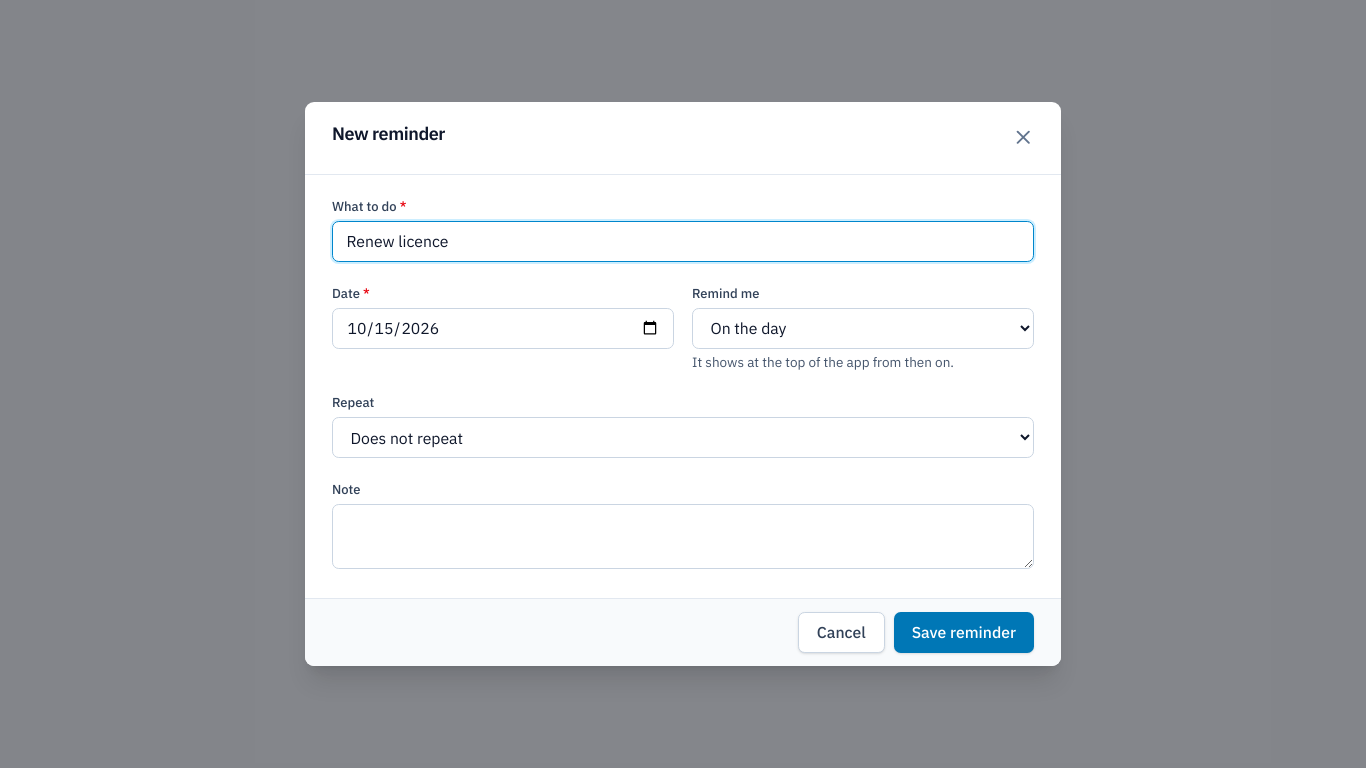
Scenario: a new reminder › refuses 366 days before
Step 1. Select "Custom…" in the dropdown labelled "Remind me" → (863, 328), box [692, 308, 1034, 348]
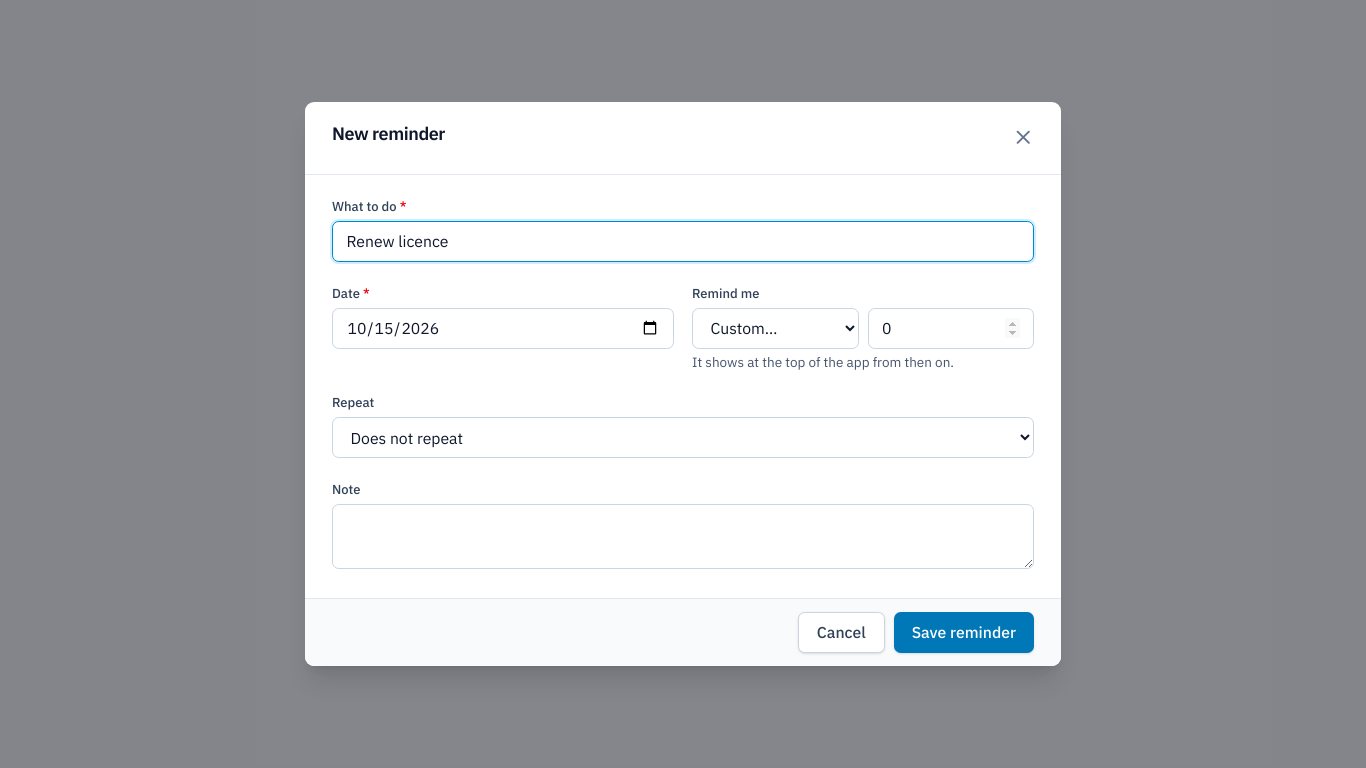
Step 2. Replace the text in the number field named "Days before" with "366" → (951, 328), box [868, 308, 1034, 348]
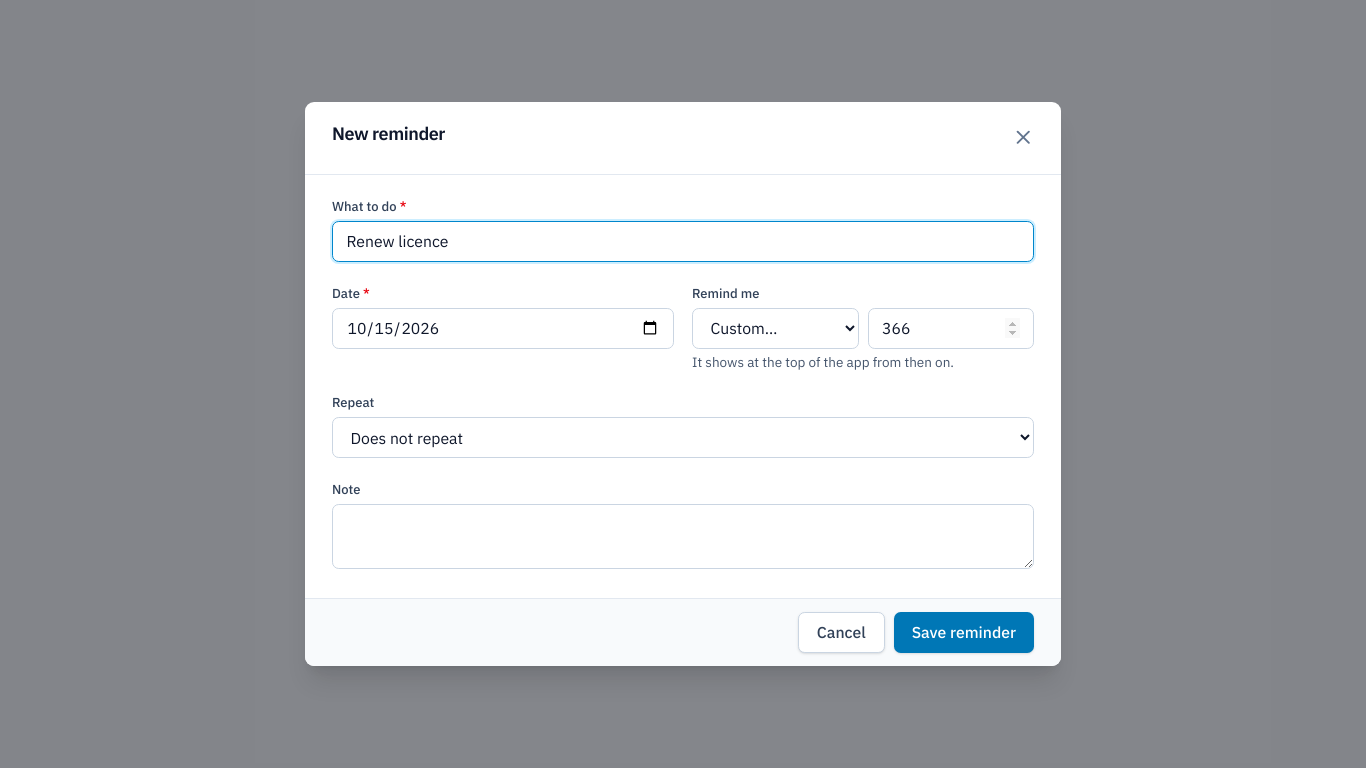
Step 3. Click the button "Save reminder" → (964, 633), box [894, 612, 1034, 653]
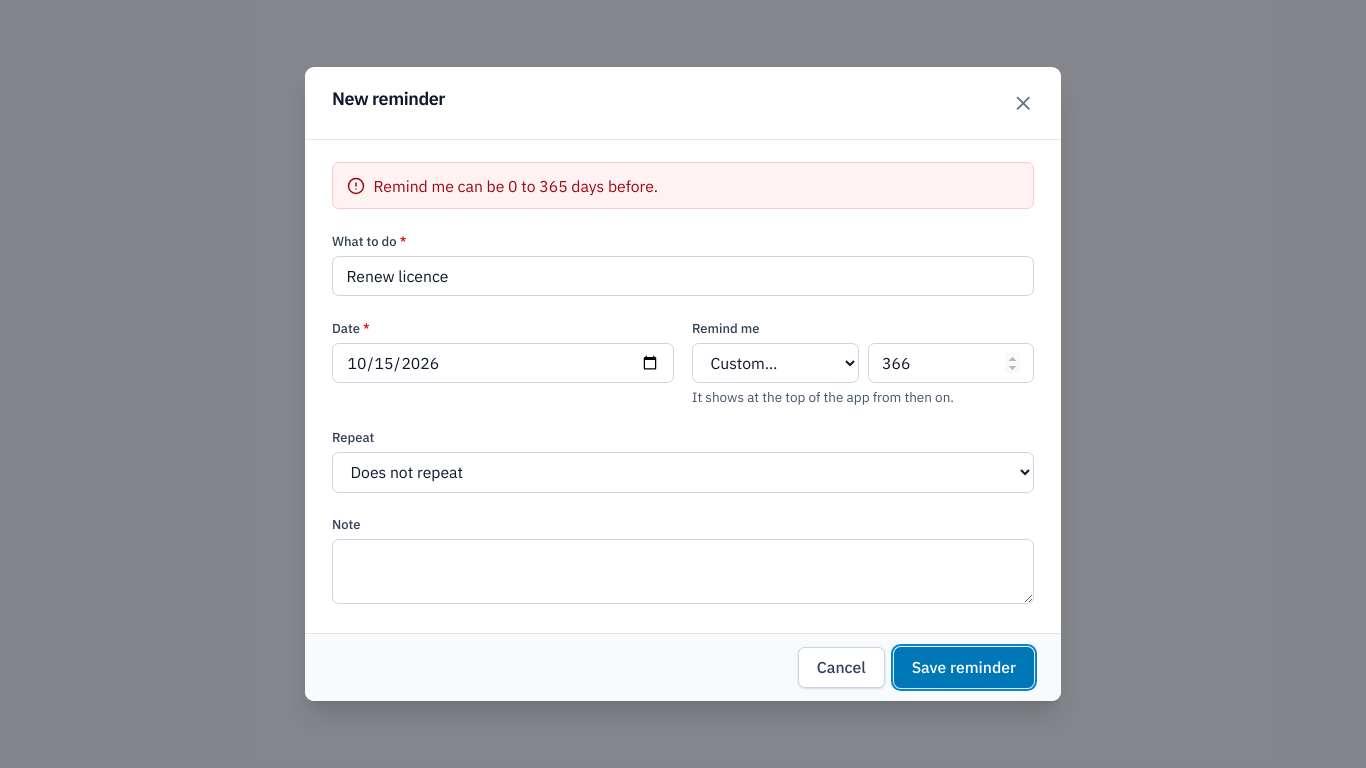
Now the message reads "Remind me can be 0 to 365 days before.", box [374, 176, 658, 196]
